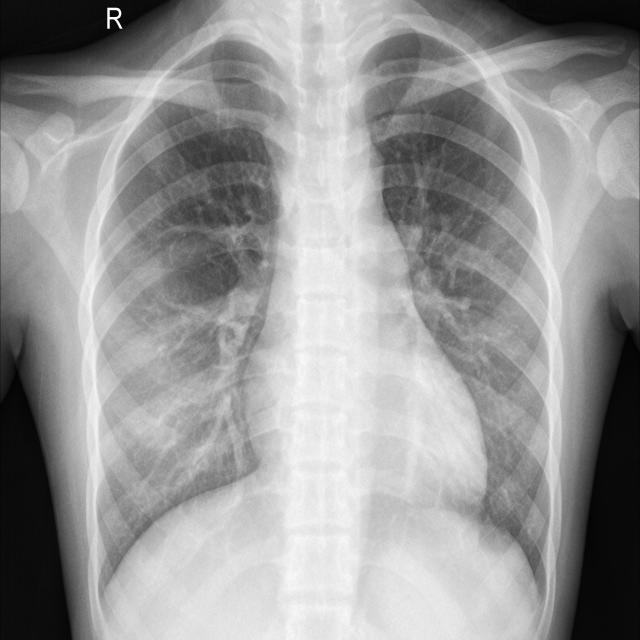no-pneumonia: (92, 40, 284, 590), (365, 35, 550, 583)
